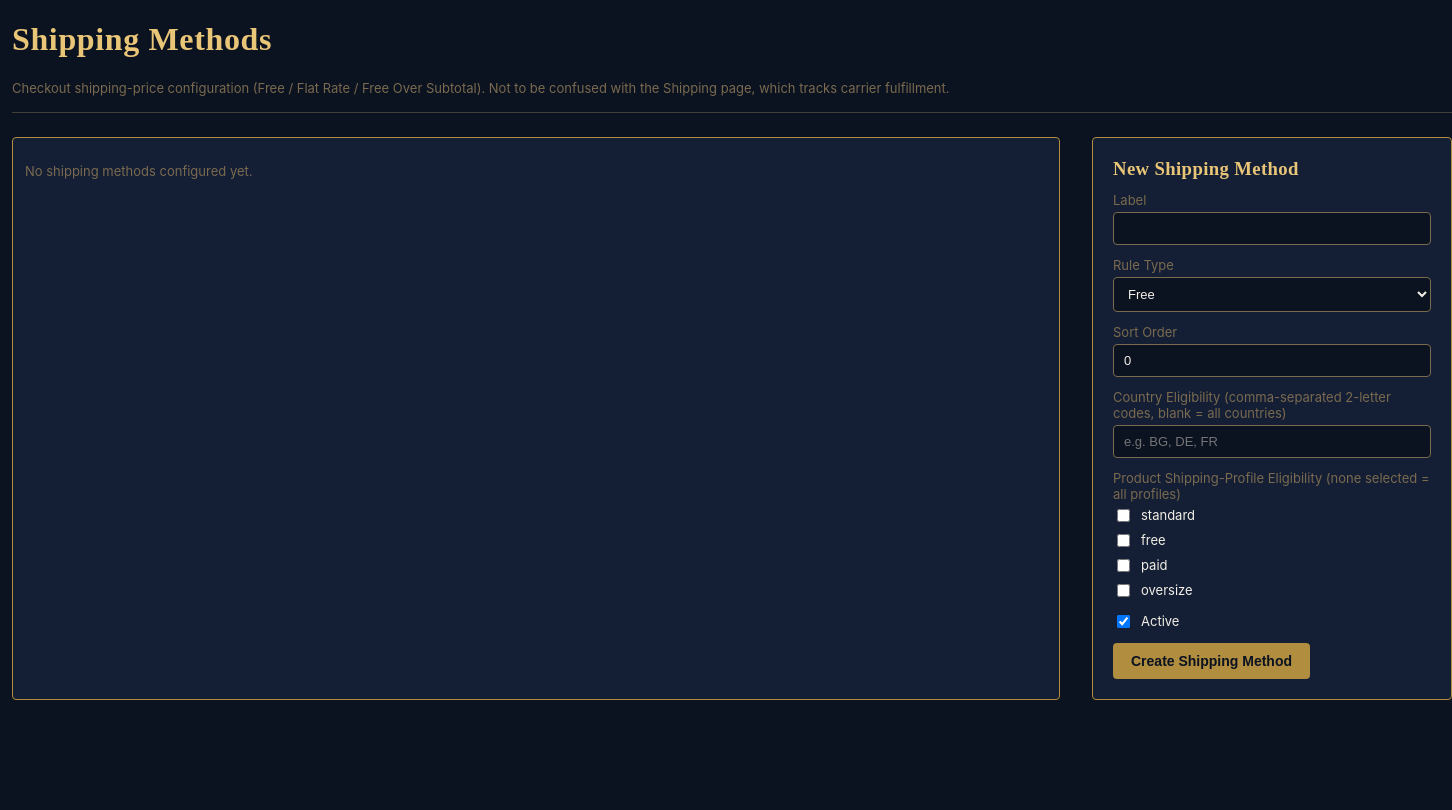
Test: Sprint 134 correction: Admin Shipping Methods page › 10. rule-specific required fields are enforced before submission
Expected: the text "No shipping methods configured yet." is shown, [25,163,252,179]
Step 1. Type "Incomplete Flat Rate" into the field labelled "Label" → (1272, 228), box [1113,212,1431,245]
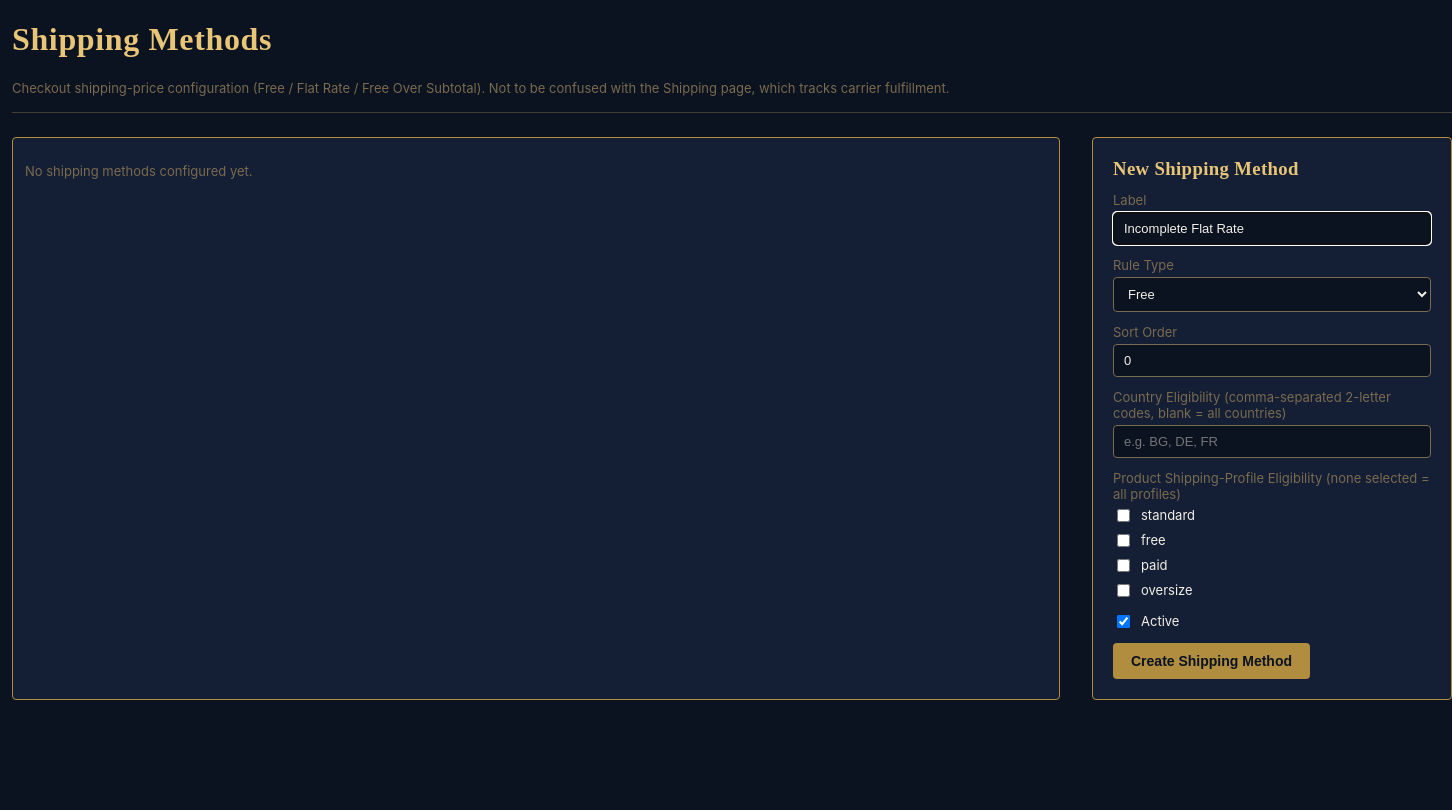
Step 2. Select "Flat Rate" in the dropdown labelled "Rule Type" → (1272, 294), box [1113,277,1431,312]
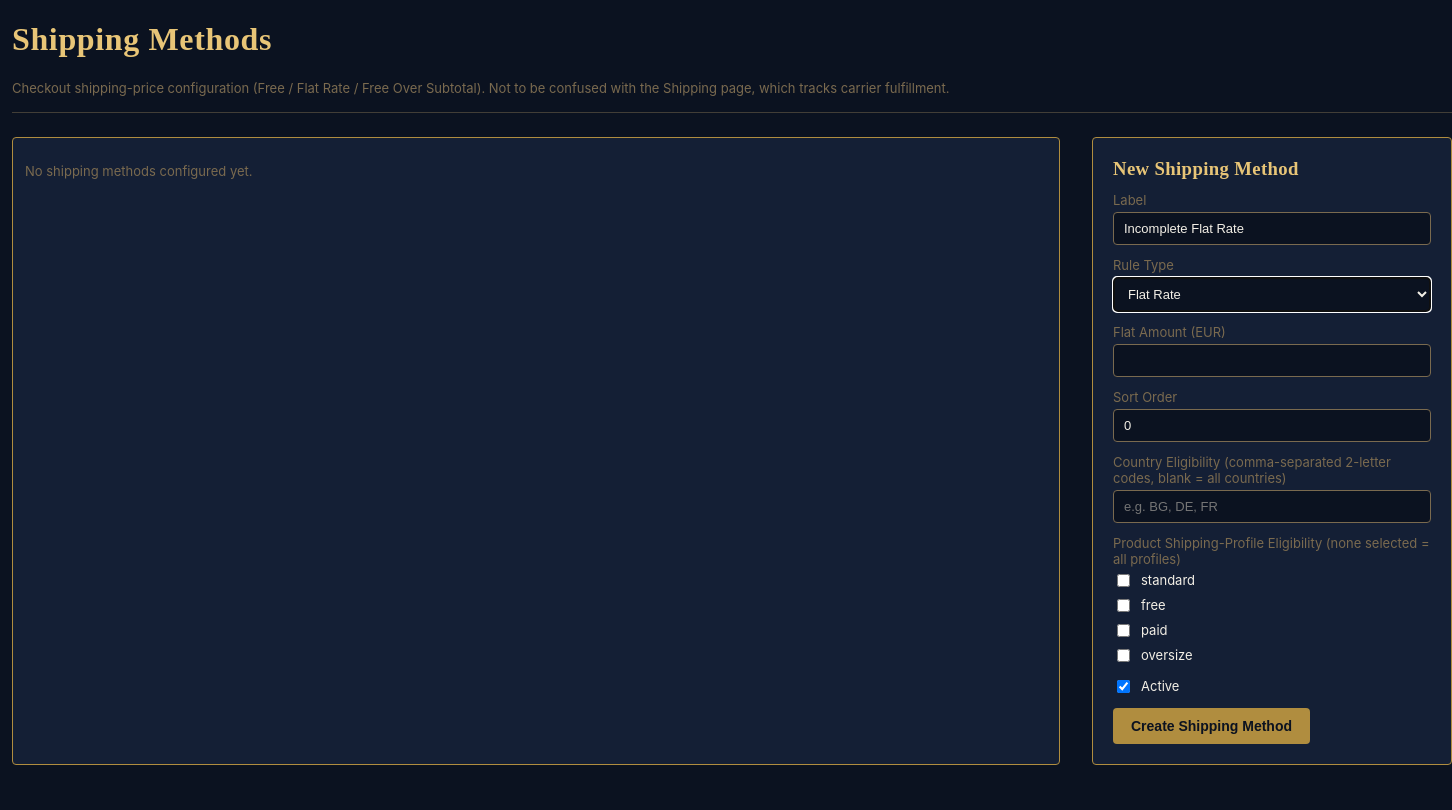
Note: Flat amount intentionally left blank.
Step 3. Click the button "Create Shipping Method" → (1212, 726), box [1113,708,1310,744]
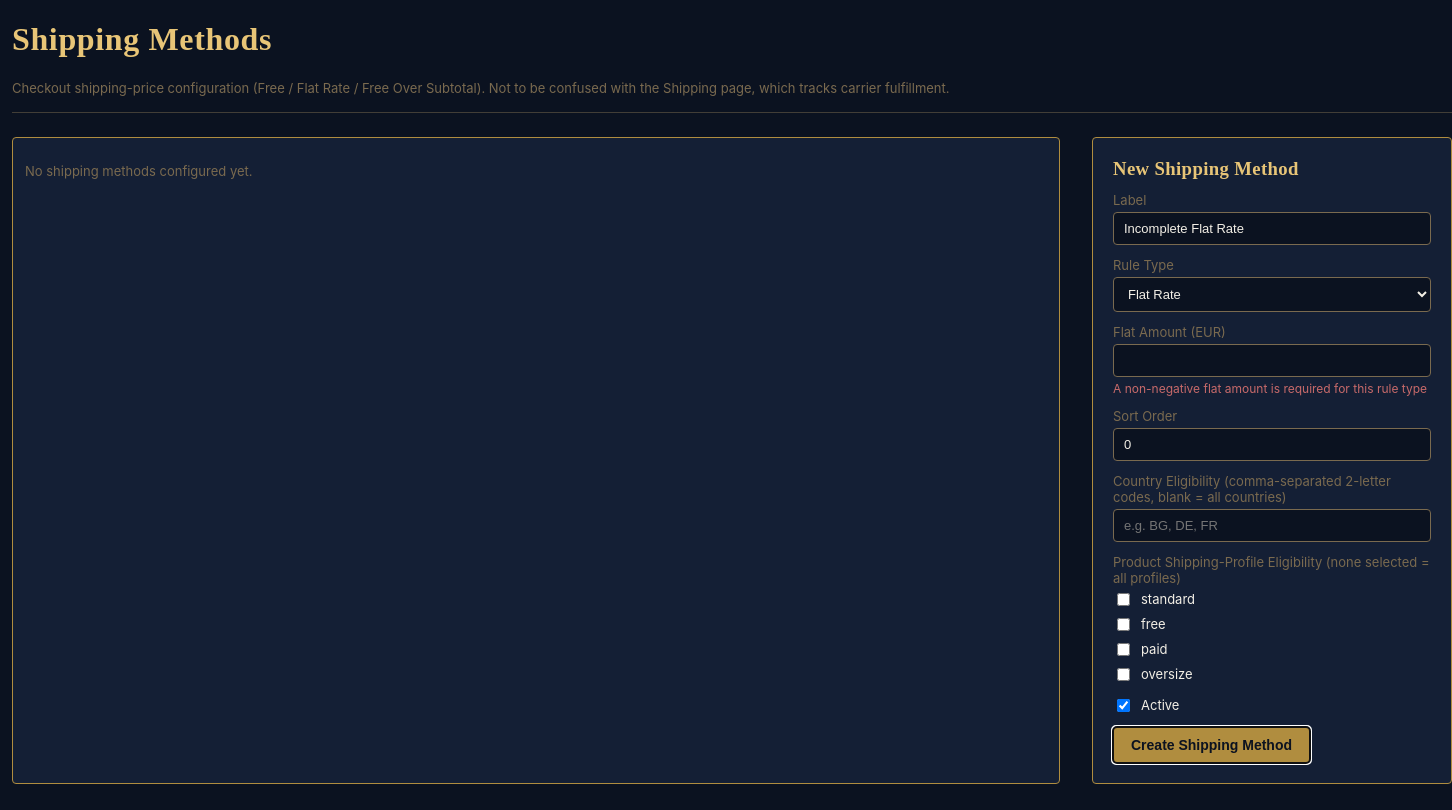
Expected: the text "A non-negative flat amount is required for this rule type" is shown, [1113,381,1431,396]
